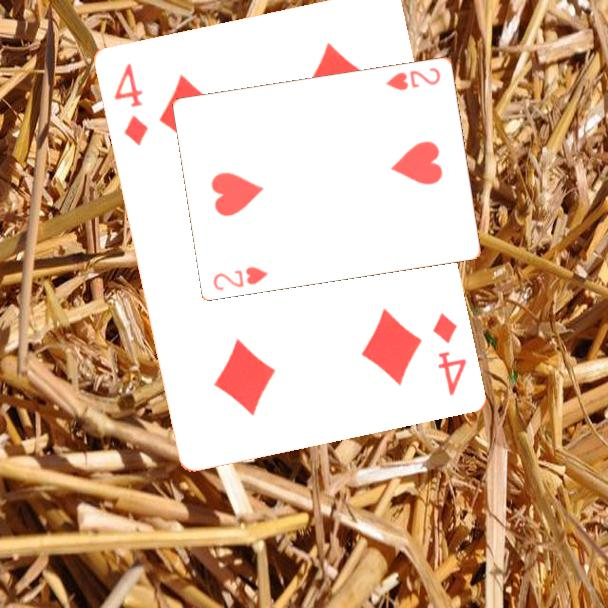d04: (429, 310, 471, 399), (111, 60, 152, 149)
h02: (210, 263, 271, 293), (382, 64, 443, 93)
